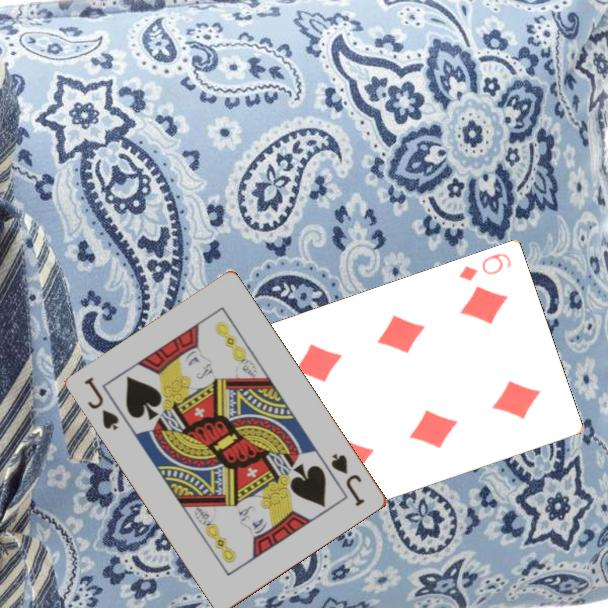d06: (455, 250, 514, 284)
s11: (81, 373, 122, 434), (328, 449, 368, 509)
